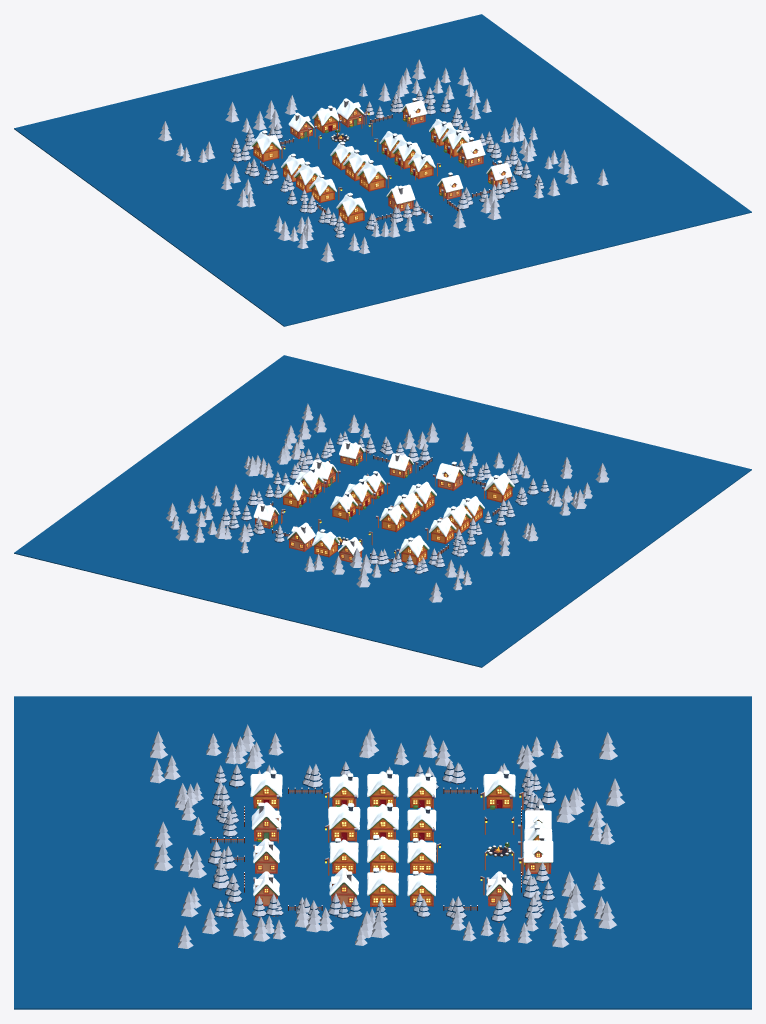
File: village.glb
3 views of the same model, one above another, from view 1: azimuth 30°, elevation 25°; view 2: azimuth 150°, elevation 25°; view 3: azimuth 270°, elevation 25° (orthographic). The views are drawn at different scales.
Visible parts, largest first — view 1: Village, Houses; view 2: Village, Houses; view 3: Village, Houses.
Part boxes in pixels (box(x1,y1,x2,y2)): Village: box(14, 14, 751, 326); Houses: box(251, 98, 512, 224); Village: box(14, 355, 751, 667); Houses: box(253, 441, 514, 565); Village: box(14, 696, 751, 1009); Houses: box(250, 770, 553, 906).
Bounding box in the file's own units: 114 × 5.76 × 114.
14 materials, 2 textured.
